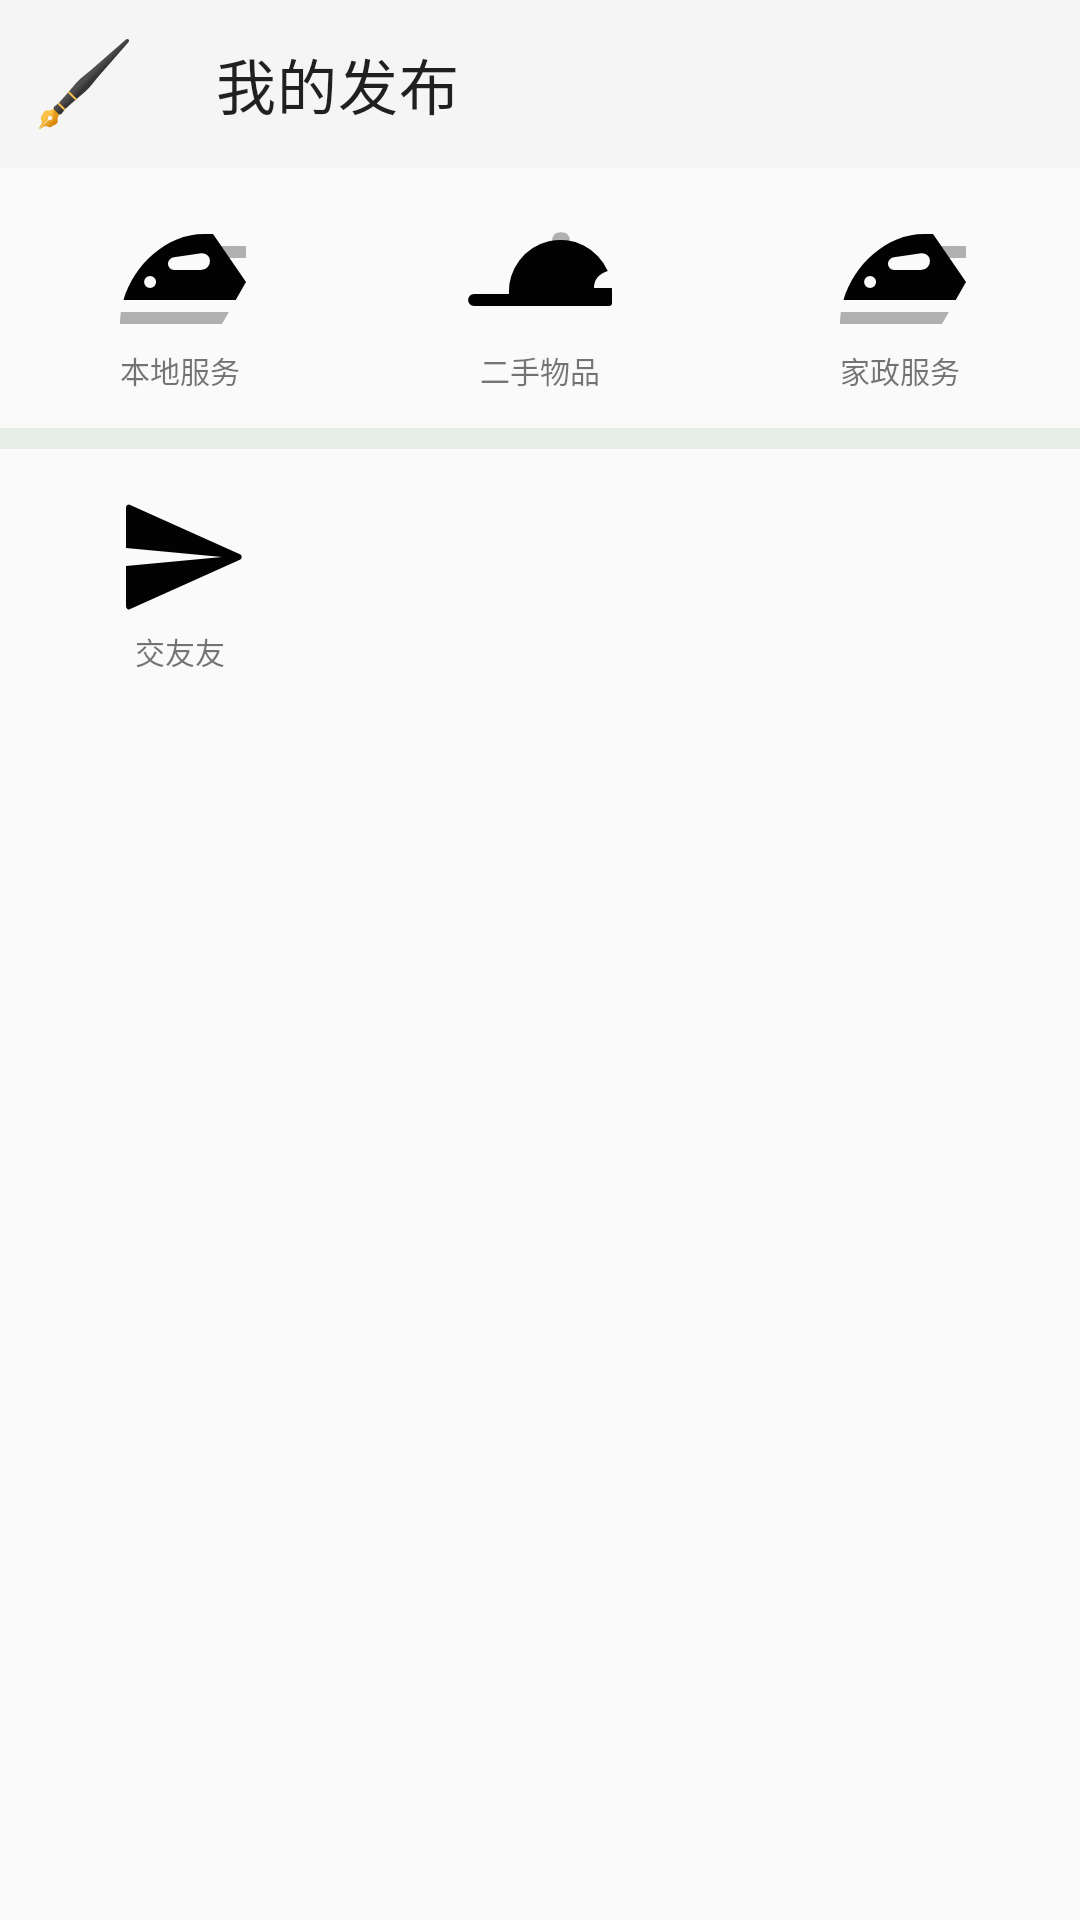

Locate icon controls on the screen. Image size 1080*1920, boxes as box=[x1, y1, x2, y2].
cap: box=[468, 232, 612, 306]
iron: box=[120, 234, 246, 324], box=[840, 234, 966, 324]
send: box=[126, 504, 242, 610]
